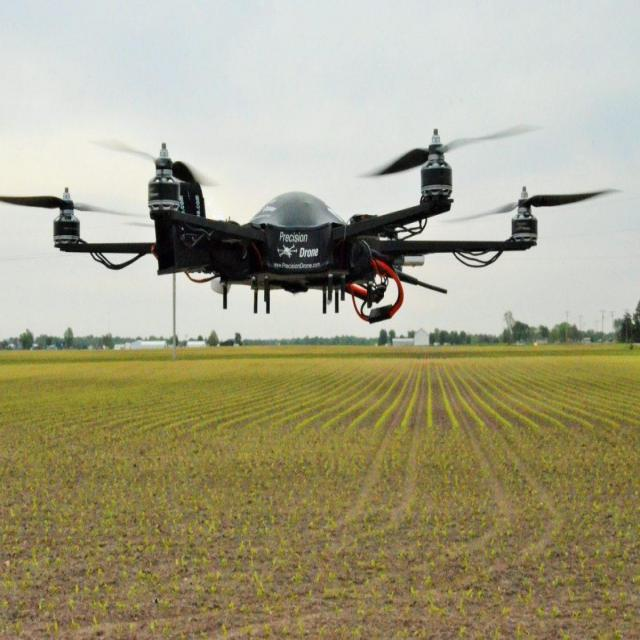UAV: (51, 130, 540, 332)
